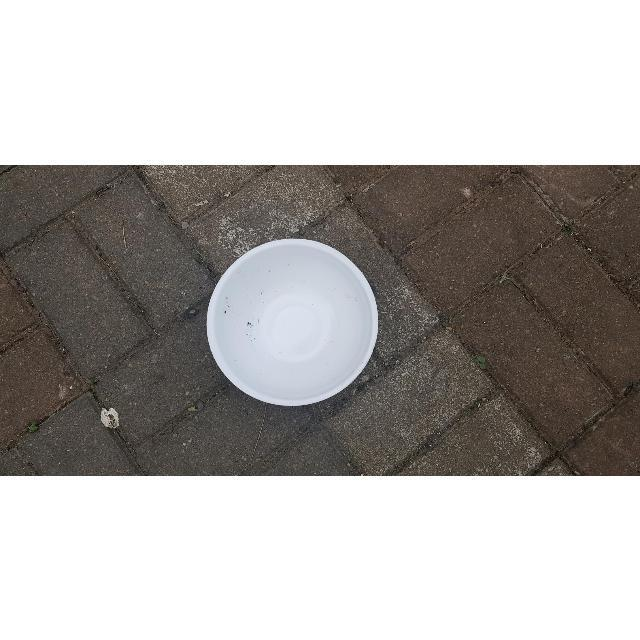Recipiente plastico: (208, 239, 378, 406)
